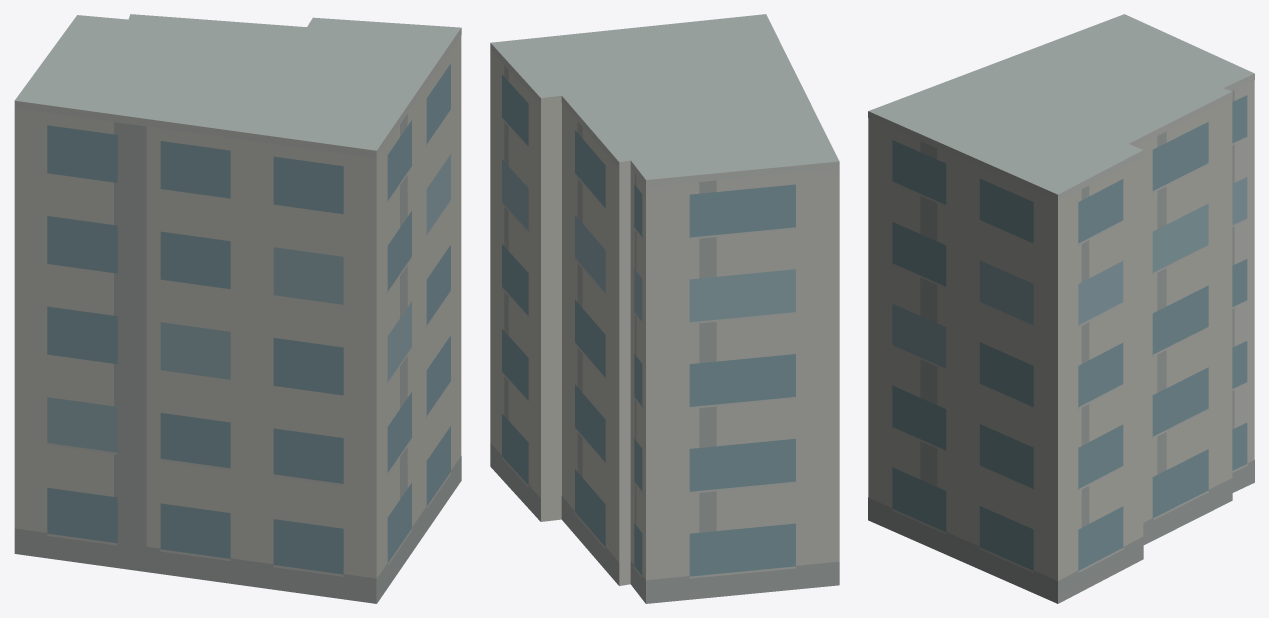
Rendered from survey-upis-32687810.glb.
3 views of the same model, side by side, from view 1: azimuth 30°, elevation 25°; view 2: azimuth 150°, elevation 25°; view 3: azimuth 270°, elevation 25° (orthographic). The views are drawn at different scales.
Parts seen in each view (by area): view 1: survey-upis-32687810.tmp; view 2: survey-upis-32687810.tmp; view 3: survey-upis-32687810.tmp.
Part boxes in pixels (left/top/right/bottom): survey-upis-32687810.tmp: left=14, top=14, right=461, bottom=603; survey-upis-32687810.tmp: left=490, top=14, right=839, bottom=603; survey-upis-32687810.tmp: left=868, top=14, right=1254, bottom=603.
Bounding box in the file's own units: 13.74 × 14.5 × 12.42.
